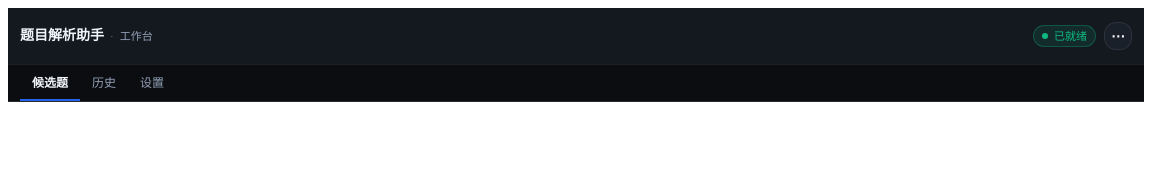
UI-03 Side Panel Workspace Shell Test Matrix (including Review Fix 01) › RF01-X: Accessibility Semantics › RF01-X07: Escape closes product popover
The image size is (1152, 173).
Click the button named "工作台菜单". click: (1118, 36)
box: [1104,22,1132,50]
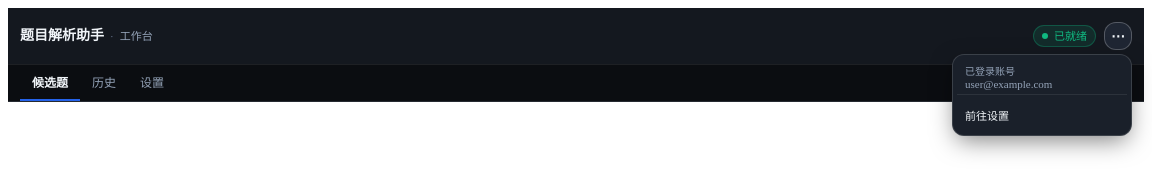
Expected: the button "前往设置" is shown, [957,99,1127,131]
Press Escape
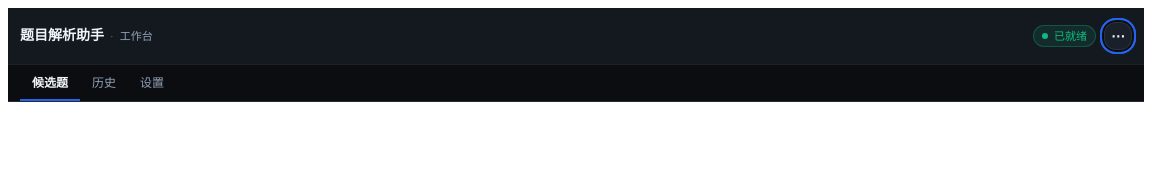
Expected: the button "前往设置" is gone
